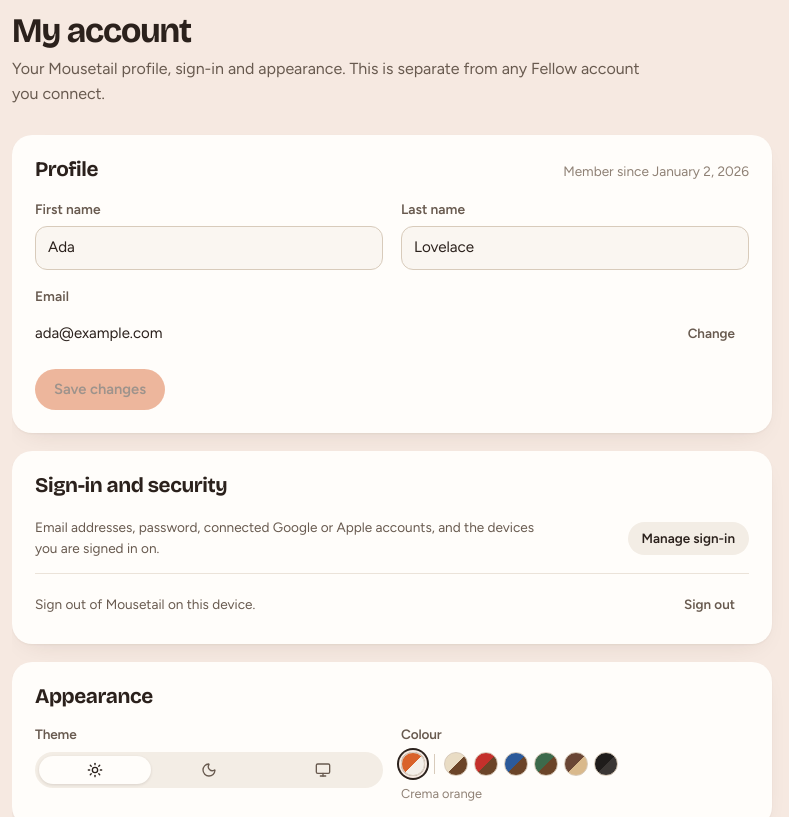
Test: Account page › shows Clerk's refusal and leaves the local profile alone
The image size is (789, 817).
Replace the text in the field labelled "First name" with "Augusta": (209, 248) [35,226,383,270]
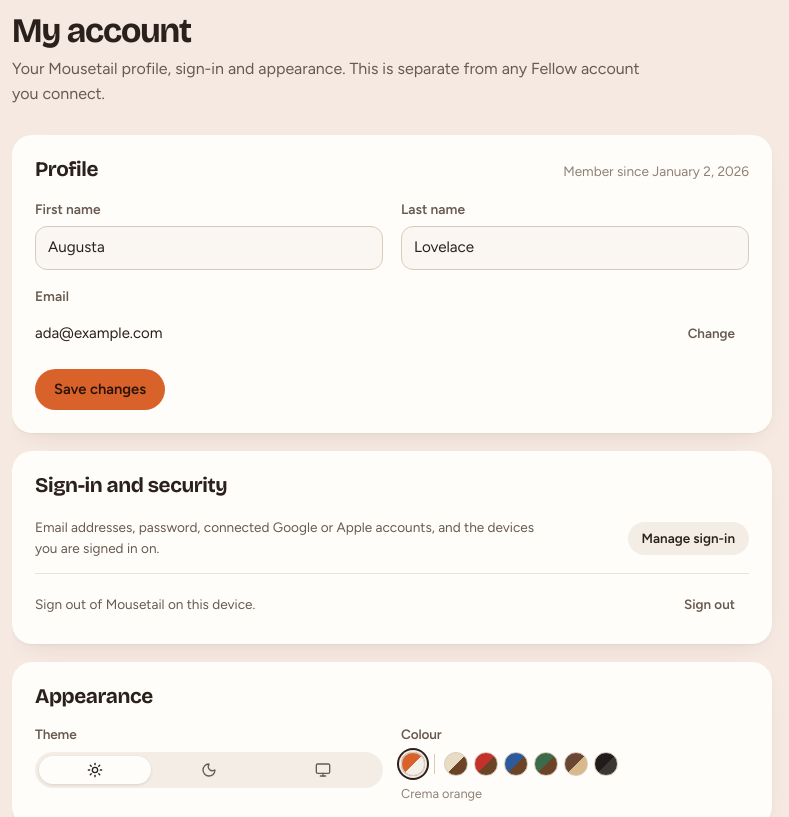
Click the button "Save changes": (100, 390) [35,369,165,410]
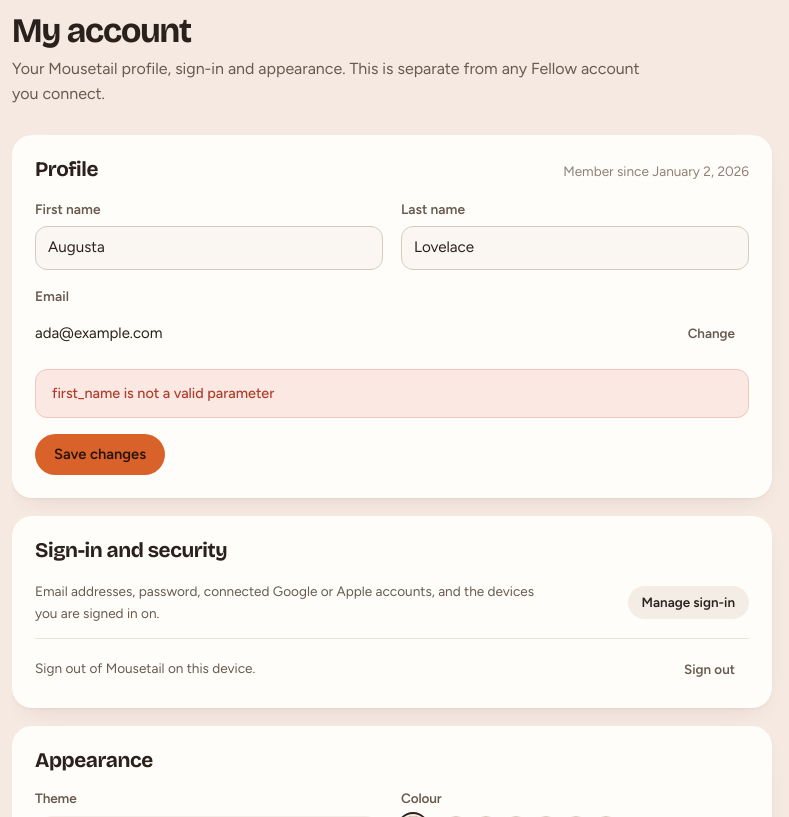
Expected: the text "first_name is not a valid parameter" is shown, [35,369,749,418]
